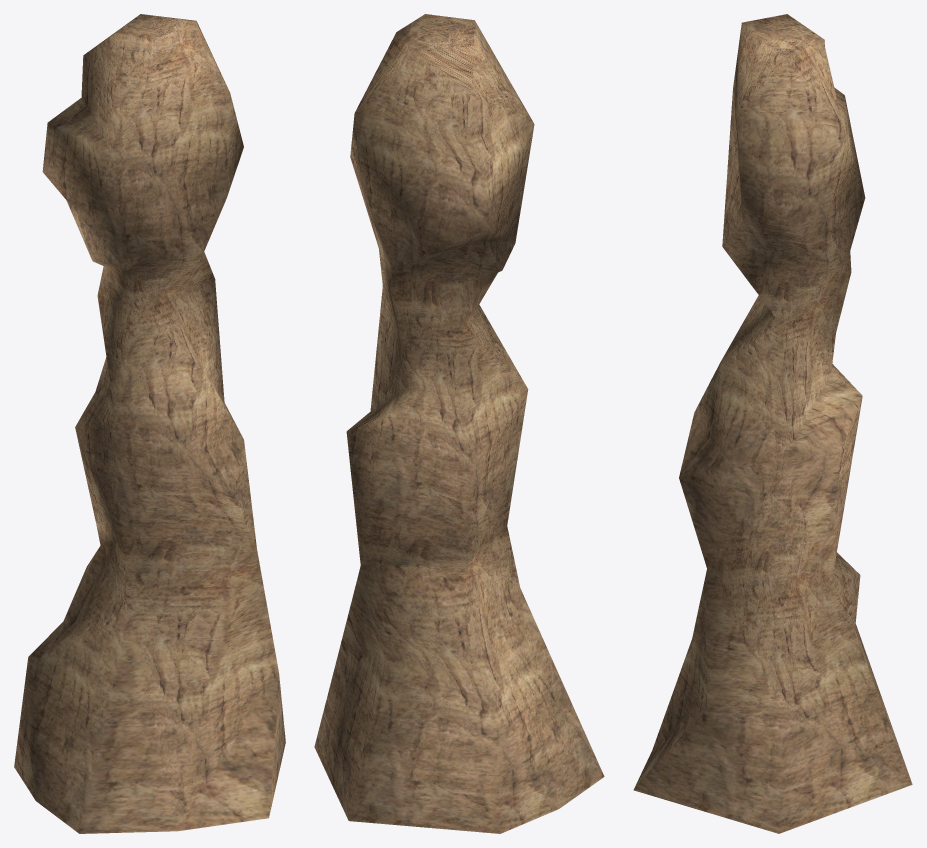
File: rock_tatt_spire_lumpy_a2_l2.fbx
The picture shows the model from 3 angles, left to right: view 1: azimuth 30°, elevation 25°; view 2: azimuth 150°, elevation 25°; view 3: azimuth 270°, elevation 25°; orthographic projection.
Parts seen in each view (by area): view 1: mesh_node; view 2: mesh_node; view 3: mesh_node.
Part boxes in pixels (x1,y1,x2,y2): mesh_node: [14, 14, 285, 833]; mesh_node: [314, 14, 604, 833]; mesh_node: [633, 14, 912, 833].
Bounding box in the file's own units: 25.95 × 75.02 × 25.47.
Materials: 1 (1 with a texture image).
